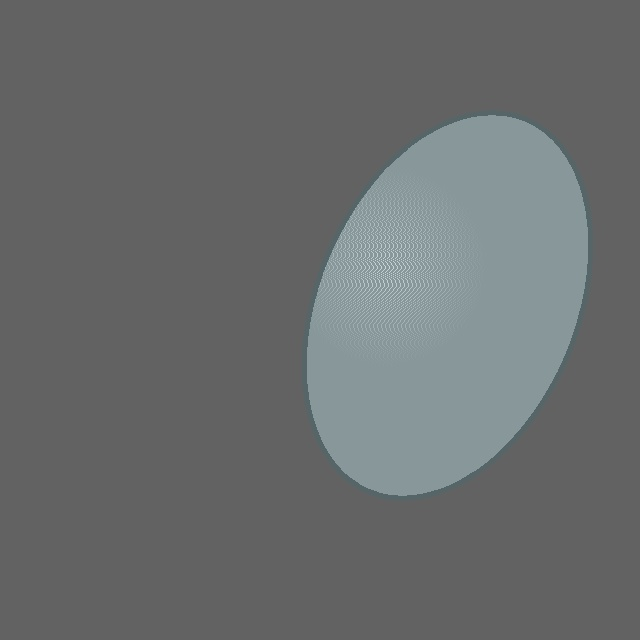lens: (304, 112, 590, 498)
